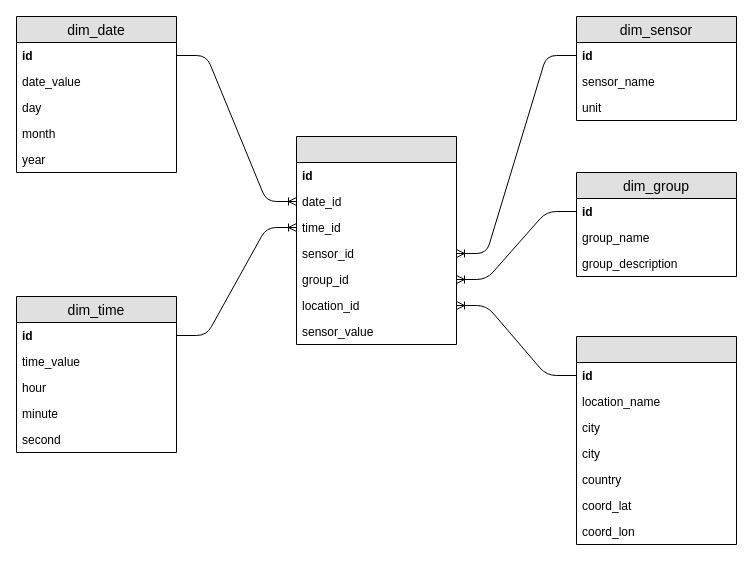
This 753x561 diagram has some shape labels left out. Here are the shapes that lost their labels. From the top down, the box of each, then its label:
(296, 136, 456, 344): fact_sensordata
(576, 336, 736, 544): dim_location
